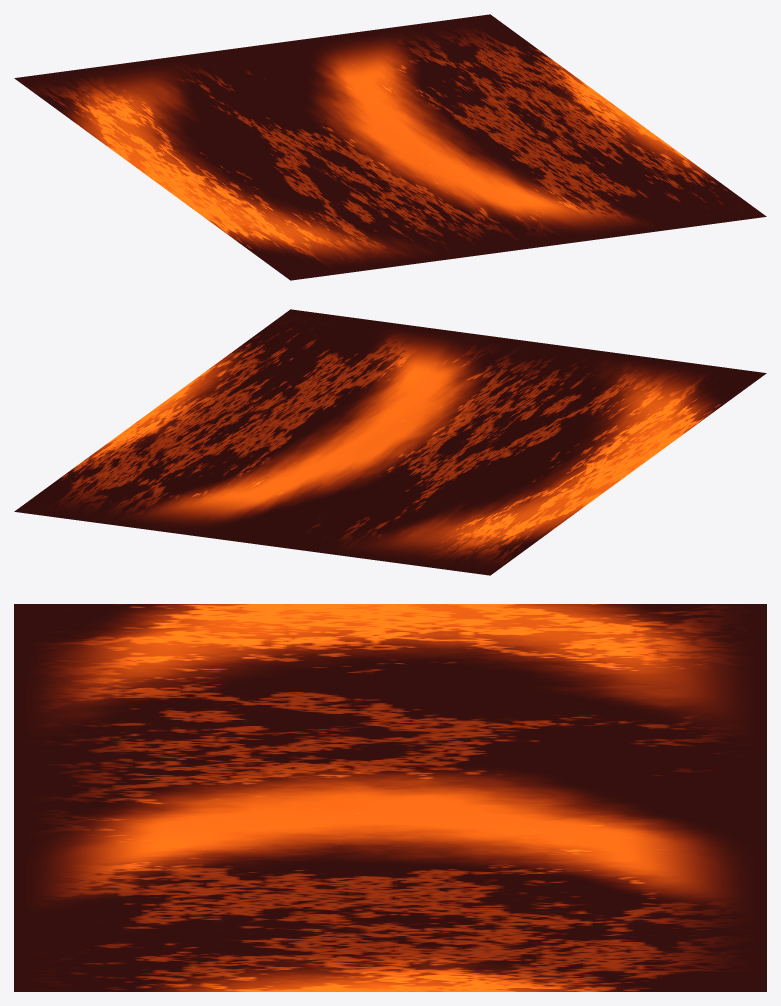
Rendered from ripple_6.glb.
3 renders of one model, top to bottom at view 1: azimuth 30°, elevation 25°; view 2: azimuth 150°, elevation 25°; view 3: azimuth 270°, elevation 25°, orthographic. The views are drawn at different scales.
Visible parts, largest first — view 1: r; view 2: r; view 3: r.
Part boxes in pixels (<box>): r: <box>14,14,766,280</box>; r: <box>14,309,766,575</box>; r: <box>14,604,766,991</box>.
Size of the model in its own units: 0.9945 by 0.1045 by 1.
1 material, 1 textured.
